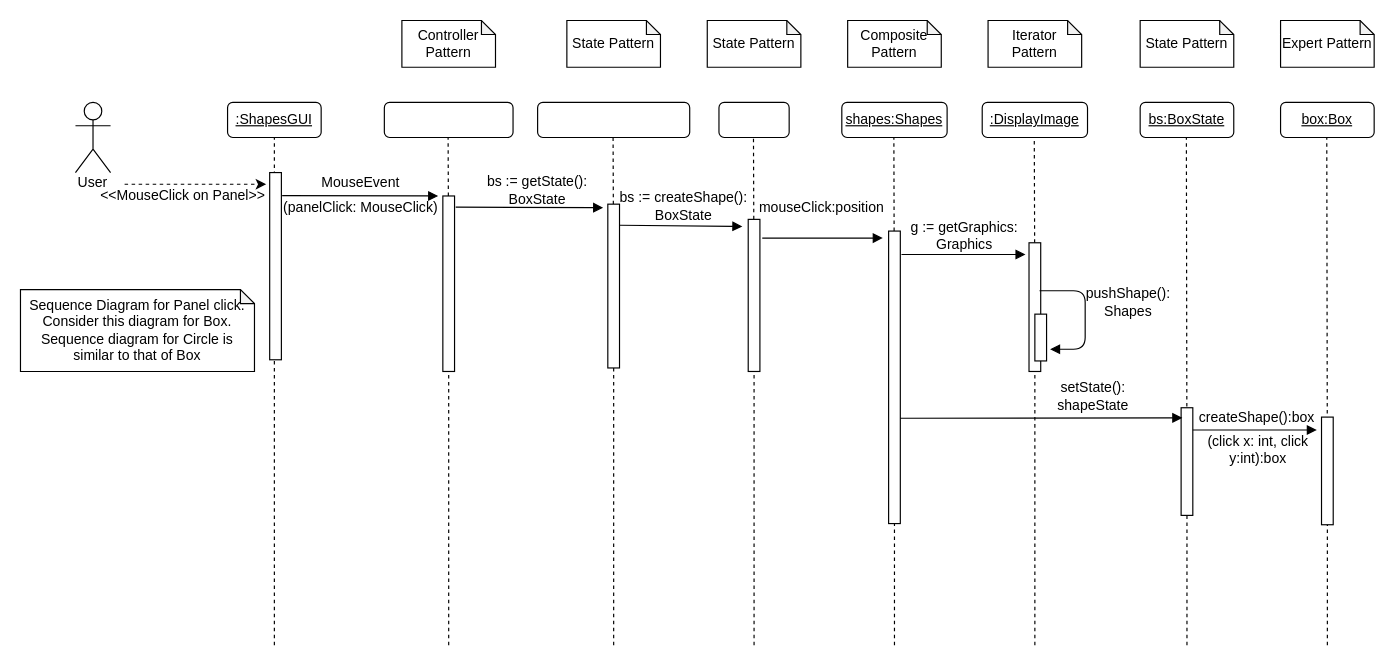
The diagram is 1395 pixels wide and 667 high, and some of its shapes have lost their labels. The shapes that lost their labels are listed below. From the top down, each one's box as (x1, y1, x2, y2) in pixels, then its label:
(383, 101, 513, 137): :PatternController
(536, 101, 690, 137): shapeState:ShapeState
(718, 101, 789, 137): :State
